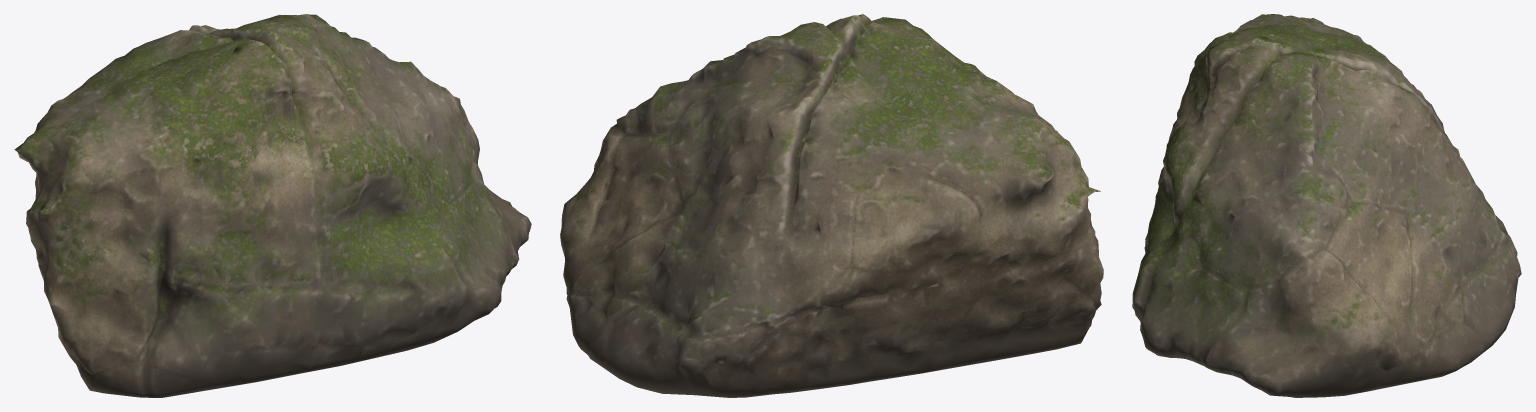
The model's file is kamen_piskovec_1.glb.
3 renders of one model, left to right at view 1: azimuth 30°, elevation 25°; view 2: azimuth 150°, elevation 25°; view 3: azimuth 270°, elevation 25°, orthographic. The views are drawn at different scales.
Visible parts, largest first — view 1: kamen_piskovec_1; view 2: kamen_piskovec_1; view 3: kamen_piskovec_1.
Part boxes in pixels (x1=…): kamen_piskovec_1: x1=14, y1=14, x2=531, y2=397; kamen_piskovec_1: x1=560, y1=14, x2=1103, y2=397; kamen_piskovec_1: x1=1132, y1=14, x2=1521, y2=397.
Size of the model in its own units: 1.08 by 0.6109 by 0.8087.
Materials: 1 (1 with a texture image).
